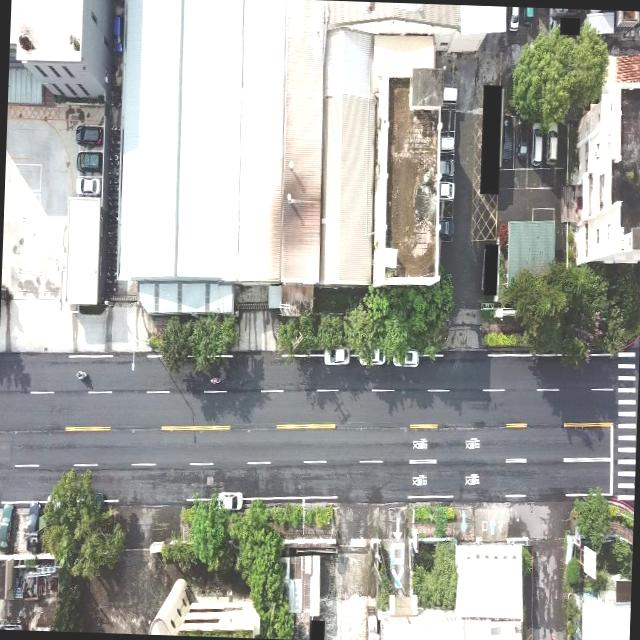bike: (72, 368, 92, 384)
car: (22, 498, 42, 552), (0, 497, 16, 555), (214, 486, 248, 509), (390, 344, 420, 370), (74, 122, 103, 148), (544, 117, 561, 161), (502, 110, 514, 170), (76, 173, 102, 200), (322, 344, 350, 368), (516, 112, 529, 163), (76, 150, 103, 172), (530, 120, 542, 166), (368, 344, 386, 366), (506, 7, 521, 30)
